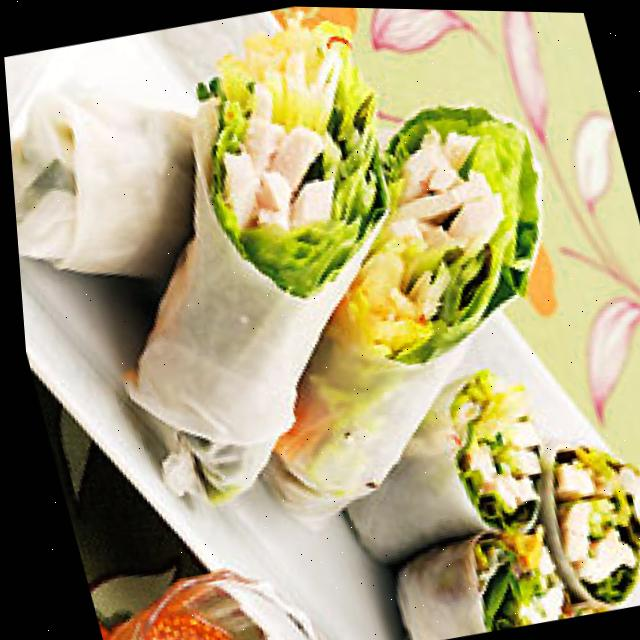鸡蛋料理: (44, 1, 640, 640)
